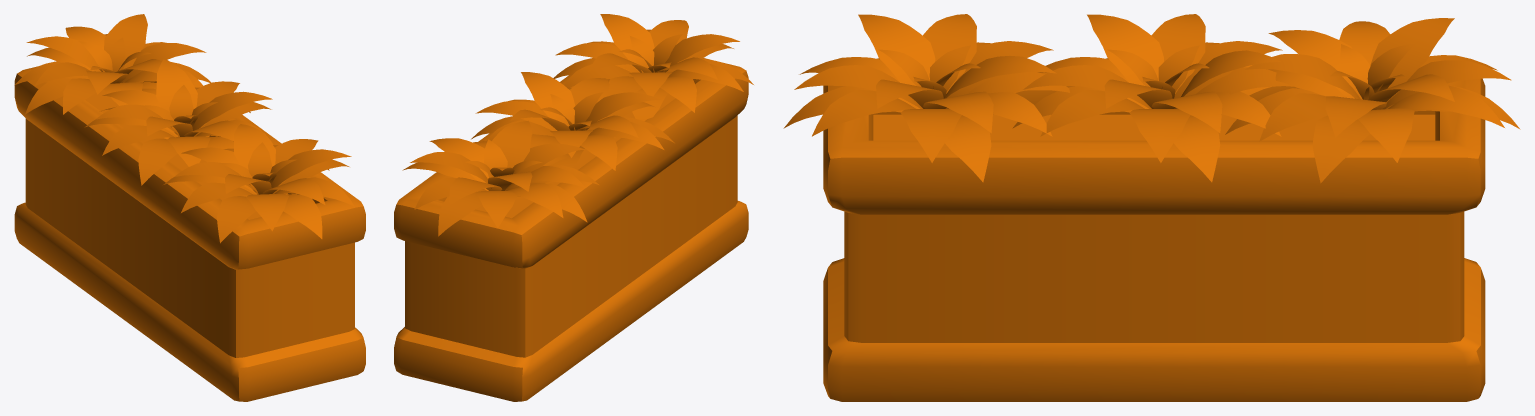
File: SM_Plants002.fbx
3 views of the same model, side by side, from view 1: azimuth 30°, elevation 25°; view 2: azimuth 150°, elevation 25°; view 3: azimuth 270°, elevation 25° (orthographic). The views are drawn at different scales.
Visible parts, largest first — view 1: SM_Plants002; view 2: SM_Plants002; view 3: SM_Plants002.
Part boxes in pixels (<box>): SM_Plants002: <box>14,14,365,401</box>; SM_Plants002: <box>394,14,753,401</box>; SM_Plants002: <box>783,14,1520,401</box>.
Bounding box in the file's own units: 113 × 130 × 283.
